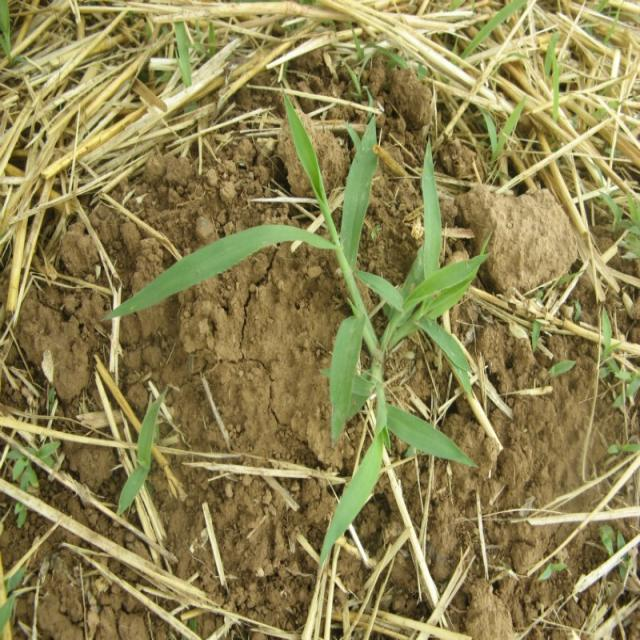bg: (110, 84, 489, 534)
